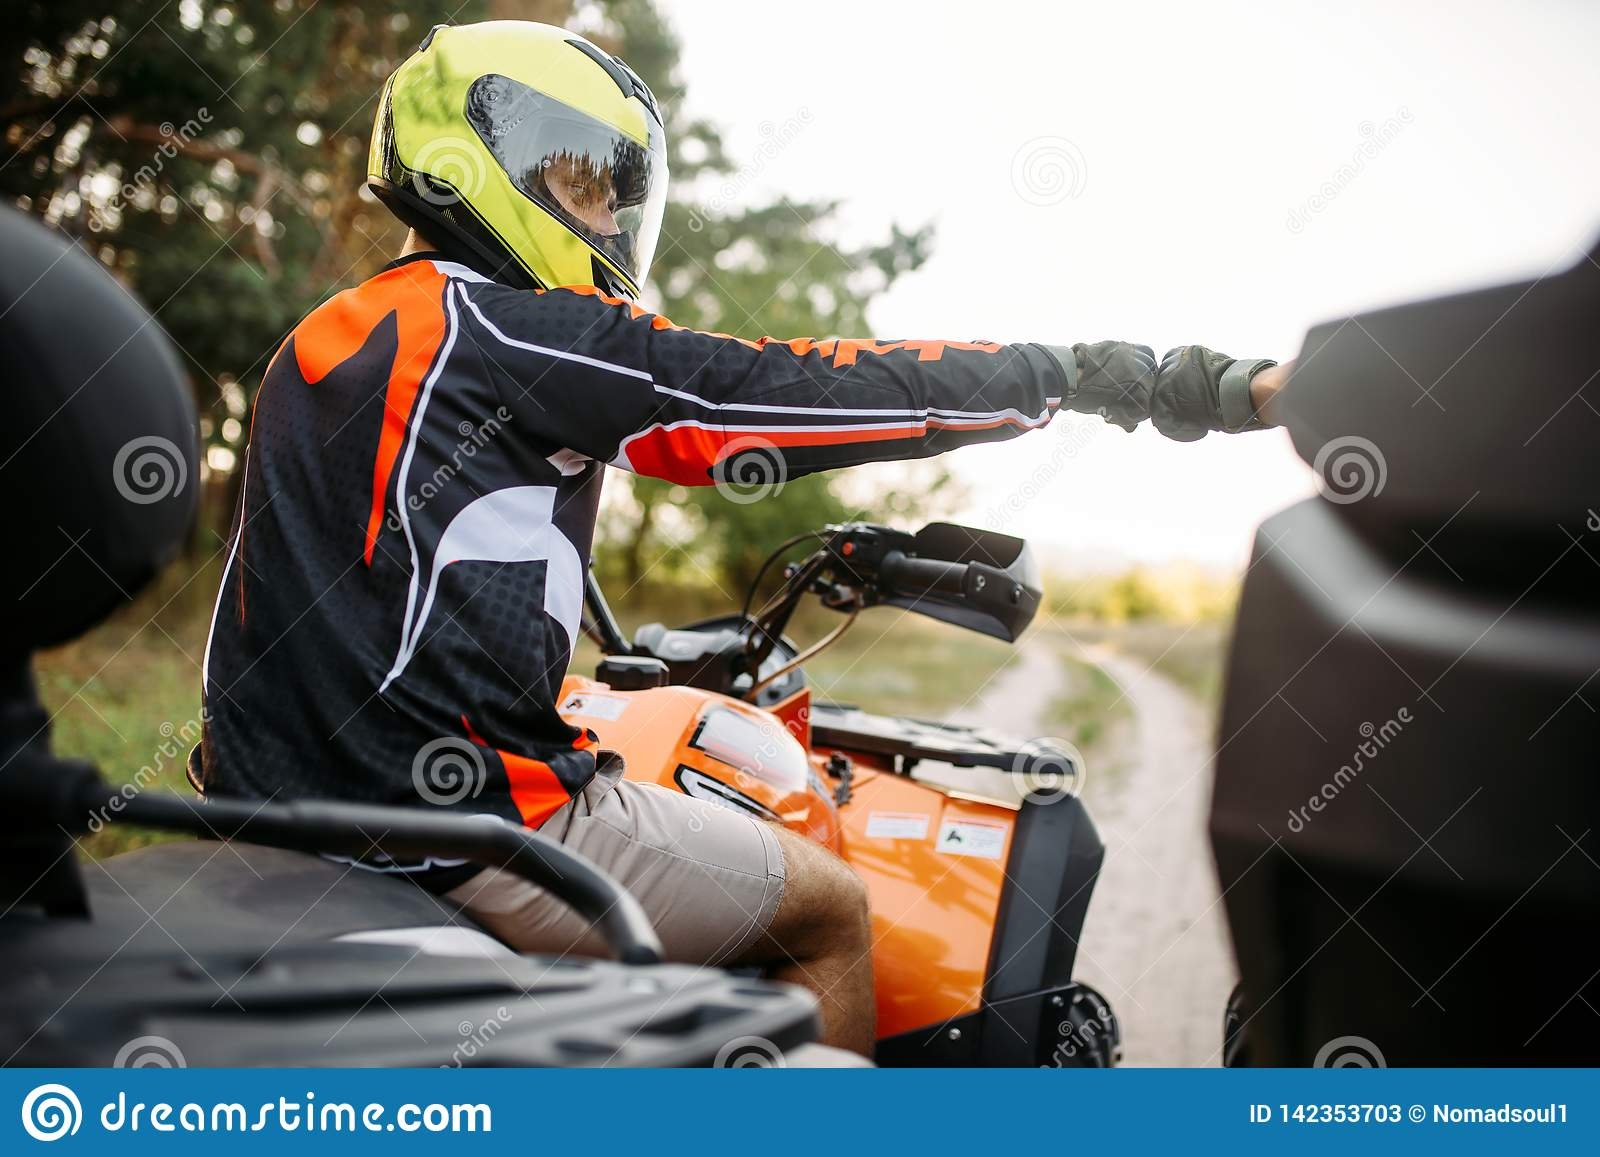helmet: (355, 2, 675, 302)
